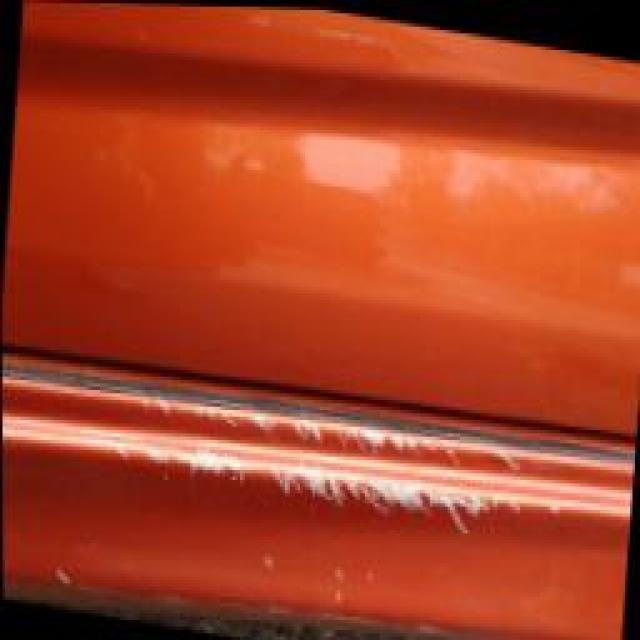Bumper: (95, 347, 584, 601)
